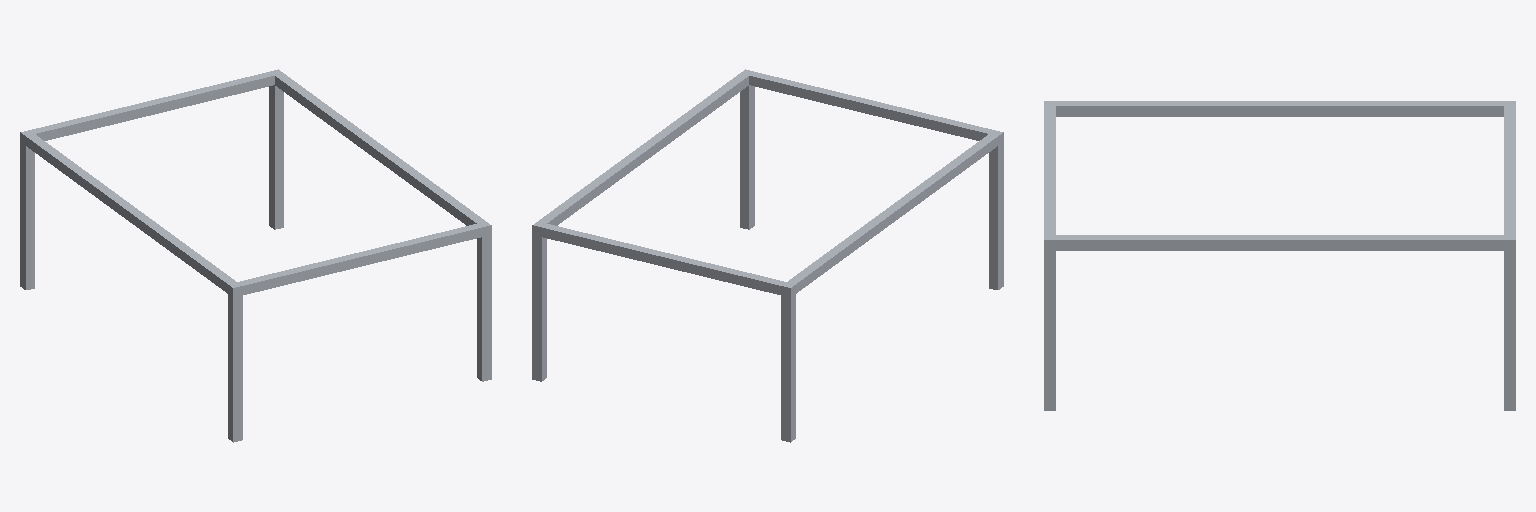
URDF robot description (coffee_booth_frame):
<?xml version="1.0"?>
<!--
  coffee_booth_frame.urdf  (임시 커피부스 프레임)
  프리미티브 박스만 사용(메쉬/STL 없음) → 치수만 바꿔 쉽게 편집 가능.
  - footprint 1.4 x 2.0 m, 높이 0.8 m
  - 기둥 50x50mm 4개(모서리) + 상단 둘레 레일 4개
  - 원점 = 바닥-중앙(z=0이 바닥면) → 스폰 Vec3(x,y,0)로 바닥에 안착
  - 고정 설비이므로 스폰 시 fix_base_link=True 로 로드할 것
-->
<robot name="coffee_booth_frame">

  <material name="frame_sus"> <color rgba="0.75 0.77 0.80 1.0"/> </material>

  <link name="base_link">
    <inertial>
      <origin xyz="0 0 0.4000"/>
      <mass value="25.0"/>
      <inertia ixx="9.6667" ixy="0" ixz="0" iyy="5.4167" iyz="0" izz="12.4167"/>
    </inertial>

    <visual>
      <origin xyz="-0.6750 -0.9750 0.4000"/>
      <geometry><box size="0.0500 0.0500 0.8000"/></geometry>
      <material name="frame_sus"/>
    </visual>
    <collision>
      <origin xyz="-0.6750 -0.9750 0.4000"/>
      <geometry><box size="0.0500 0.0500 0.8000"/></geometry>
    </collision>
    <visual>
      <origin xyz="-0.6750 0.9750 0.4000"/>
      <geometry><box size="0.0500 0.0500 0.8000"/></geometry>
      <material name="frame_sus"/>
    </visual>
    <collision>
      <origin xyz="-0.6750 0.9750 0.4000"/>
      <geometry><box size="0.0500 0.0500 0.8000"/></geometry>
    </collision>
    <visual>
      <origin xyz="0.6750 -0.9750 0.4000"/>
      <geometry><box size="0.0500 0.0500 0.8000"/></geometry>
      <material name="frame_sus"/>
    </visual>
    <collision>
      <origin xyz="0.6750 -0.9750 0.4000"/>
      <geometry><box size="0.0500 0.0500 0.8000"/></geometry>
    </collision>
    <visual>
      <origin xyz="0.6750 0.9750 0.4000"/>
      <geometry><box size="0.0500 0.0500 0.8000"/></geometry>
      <material name="frame_sus"/>
    </visual>
    <collision>
      <origin xyz="0.6750 0.9750 0.4000"/>
      <geometry><box size="0.0500 0.0500 0.8000"/></geometry>
    </collision>
    <visual>
      <origin xyz="0.0000 -0.9750 0.7750"/>
      <geometry><box size="1.4000 0.0500 0.0500"/></geometry>
      <material name="frame_sus"/>
    </visual>
    <collision>
      <origin xyz="0.0000 -0.9750 0.7750"/>
      <geometry><box size="1.4000 0.0500 0.0500"/></geometry>
    </collision>
    <visual>
      <origin xyz="0.0000 0.9750 0.7750"/>
      <geometry><box size="1.4000 0.0500 0.0500"/></geometry>
      <material name="frame_sus"/>
    </visual>
    <collision>
      <origin xyz="0.0000 0.9750 0.7750"/>
      <geometry><box size="1.4000 0.0500 0.0500"/></geometry>
    </collision>
    <visual>
      <origin xyz="-0.6750 0.0000 0.7750"/>
      <geometry><box size="0.0500 2.0000 0.0500"/></geometry>
      <material name="frame_sus"/>
    </visual>
    <collision>
      <origin xyz="-0.6750 0.0000 0.7750"/>
      <geometry><box size="0.0500 2.0000 0.0500"/></geometry>
    </collision>
    <visual>
      <origin xyz="0.6750 0.0000 0.7750"/>
      <geometry><box size="0.0500 2.0000 0.0500"/></geometry>
      <material name="frame_sus"/>
    </visual>
    <collision>
      <origin xyz="0.6750 0.0000 0.7750"/>
      <geometry><box size="0.0500 2.0000 0.0500"/></geometry>
    </collision>
  </link>
</robot>

--- Facts derived from the render (not from the file) ---
Views: 3 orthographic renders of the robot side by side, from view 1: azimuth 30°, elevation 25°; view 2: azimuth 150°, elevation 25°; view 3: azimuth 270°, elevation 25°.
Model coffee_booth_frame with 1 links and 0 joints (none), rooted at base_link, posed all joints at 0.
Links seen in each view (by area): view 1: base_link; view 2: base_link; view 3: base_link.
Link boxes in pixels (box(x1,y1,x2,y2)): base_link: box(20, 69, 491, 442); base_link: box(532, 69, 1003, 442); base_link: box(1044, 101, 1515, 410).
Size in the robot's own frame: 1.4 by 2 by 0.8 metres.
Geometry: primitives only (box / cylinder / sphere), no mesh files.
